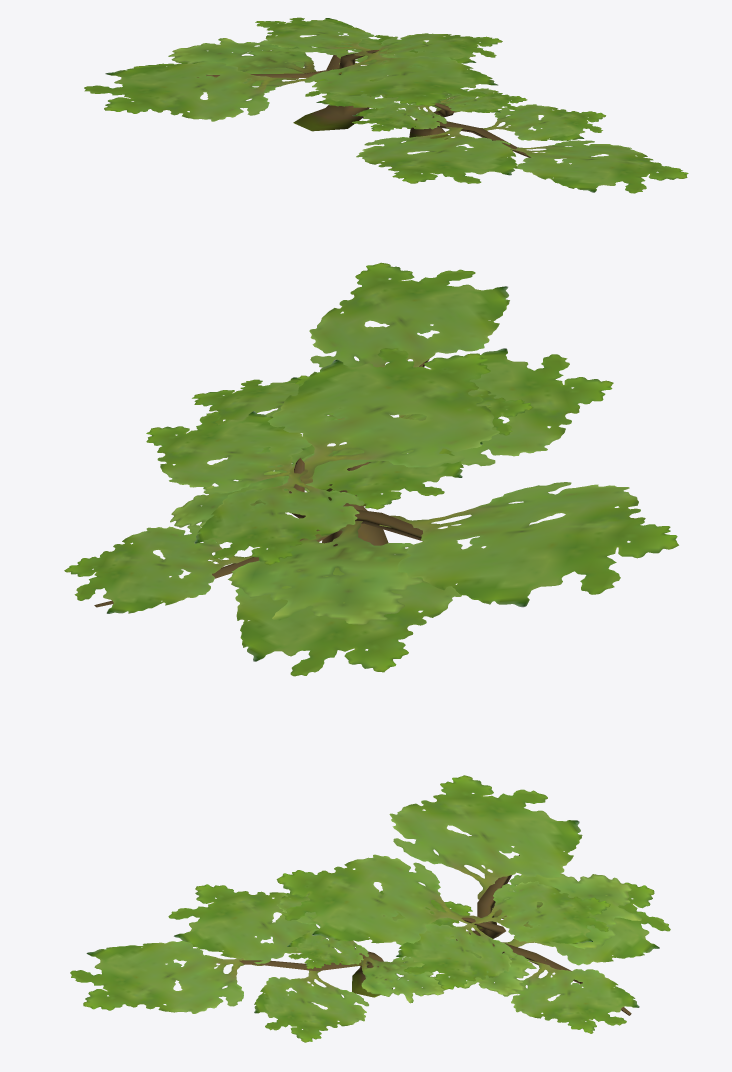
The model's file is liemo_plant_07 (23).fbx.
3 views of the same model, one above another, from view 1: azimuth 30°, elevation 25°; view 2: azimuth 150°, elevation 25°; view 3: azimuth 270°, elevation 25° (orthographic). The views are drawn at different scales.
Visible parts, largest first — view 1: liemo_plant_07 (23); view 2: liemo_plant_07 (23); view 3: liemo_plant_07 (23).
Boxes of the visible parts, left/top/right/bottom form: liemo_plant_07 (23): left=84, top=17, right=688, bottom=193; liemo_plant_07 (23): left=64, top=262, right=678, bottom=676; liemo_plant_07 (23): left=70, top=775, right=670, bottom=1042.
Size of the model in its own units: 12.01 by 2.05 by 13.78.
